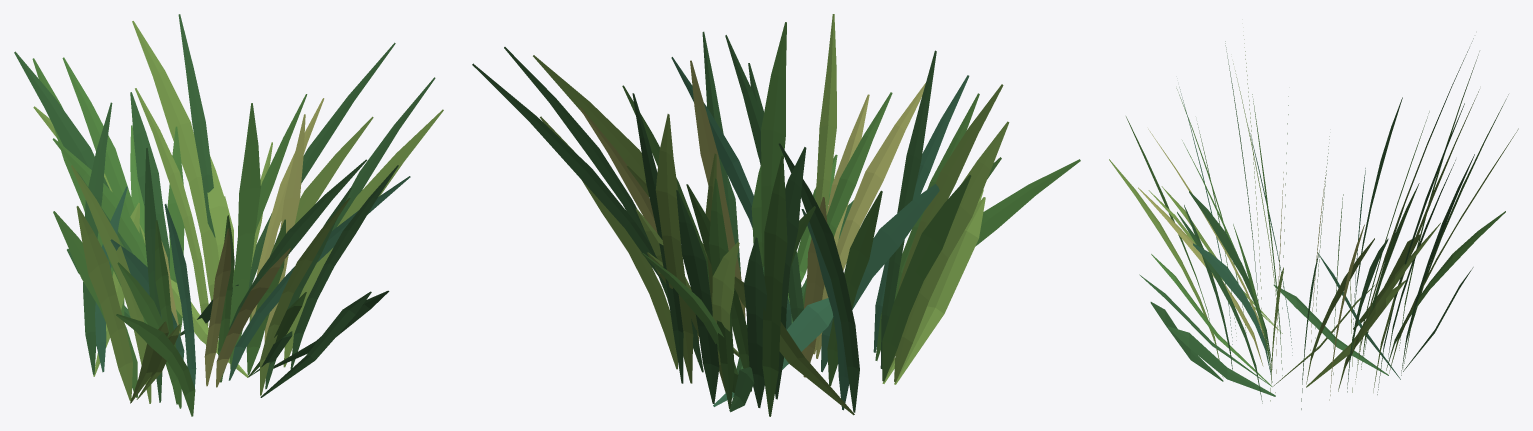
The model's file is capim_alto.glb.
3 renders of one model, left to right at view 1: azimuth 30°, elevation 25°; view 2: azimuth 150°, elevation 25°; view 3: azimuth 270°, elevation 25°, orthographic. The views are drawn at different scales.
Parts seen in each view (by area): view 1: Vegetação | Capim | verde claro, Vegetação | Capim | verde sombra, Vegetação | Capim | verde folha, Vegetação | Capim | pontas douradas, Vegetação | Capim | verde frio; view 2: Vegetação | Capim | verde folha, Vegetação | Capim | verde sombra, Vegetação | Capim | verde claro, Vegetação | Capim | verde frio, Vegetação | Capim | pontas douradas; view 3: Vegetação | Capim | verde sombra, Vegetação | Capim | verde claro, Vegetação | Capim | verde folha, Vegetação | Capim | verde frio, Vegetação | Capim | pontas douradas.
Boxes of the visible parts, x1,y1,x2,y2 form: Vegetação | Capim | verde claro: (33,21,443,403); Vegetação | Capim | verde sombra: (14,14,435,402); Vegetação | Capim | verde folha: (32,57,307,416); Vegetação | Capim | pontas douradas: (161,98,324,387); Vegetação | Capim | verde frio: (95,176,410,387); Vegetação | Capim | verde folha: (622,22,1080,416); Vegetação | Capim | verde sombra: (472,31,936,412); Vegetação | Capim | verde claro: (533,14,1009,415); Vegetação | Capim | verde frio: (671,57,969,410); Vegetação | Capim | pontas douradas: (579,60,925,377); Vegetação | Capim | verde sombra: (1139,38,1474,409); Vegetação | Capim | verde claro: (1109,35,1518,401); Vegetação | Capim | verde folha: (1126,51,1508,386); Vegetação | Capim | verde frio: (1179,87,1400,379); Vegetação | Capim | pontas douradas: (1138,129,1364,400).
Size of the model in its own units: 1.02 by 0.6847 by 0.856.
